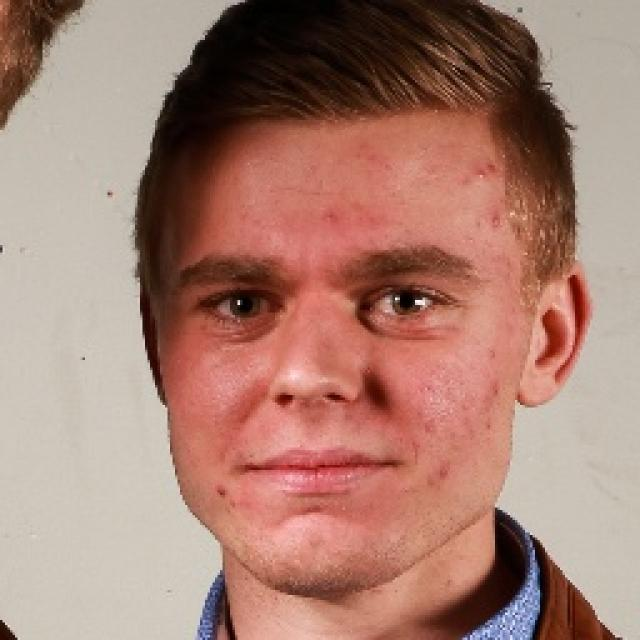earlobe: (515, 258, 592, 407), (140, 268, 168, 407)
